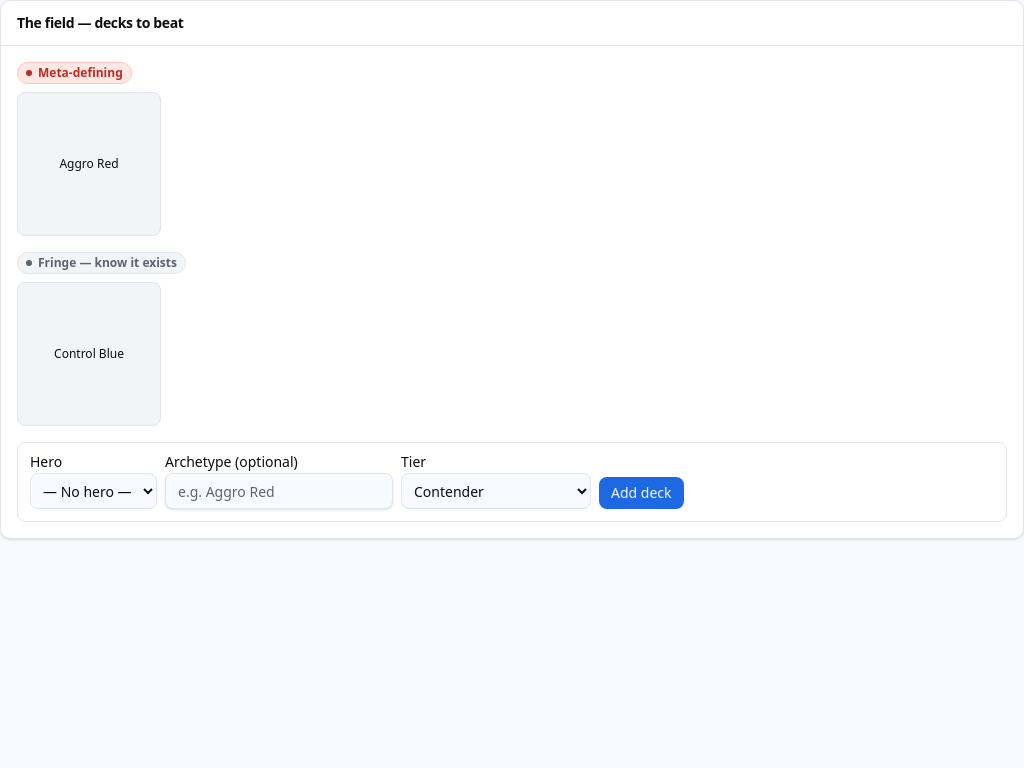
Test: MetaDeckEntryBuilder › requires at least a hero or a label before adding
The width and height of the screenshot is (1024, 768).
Neither a hero nor a label → validation blocks the add.
Click the button "Add deck": (641, 493) [599,477,684,509]
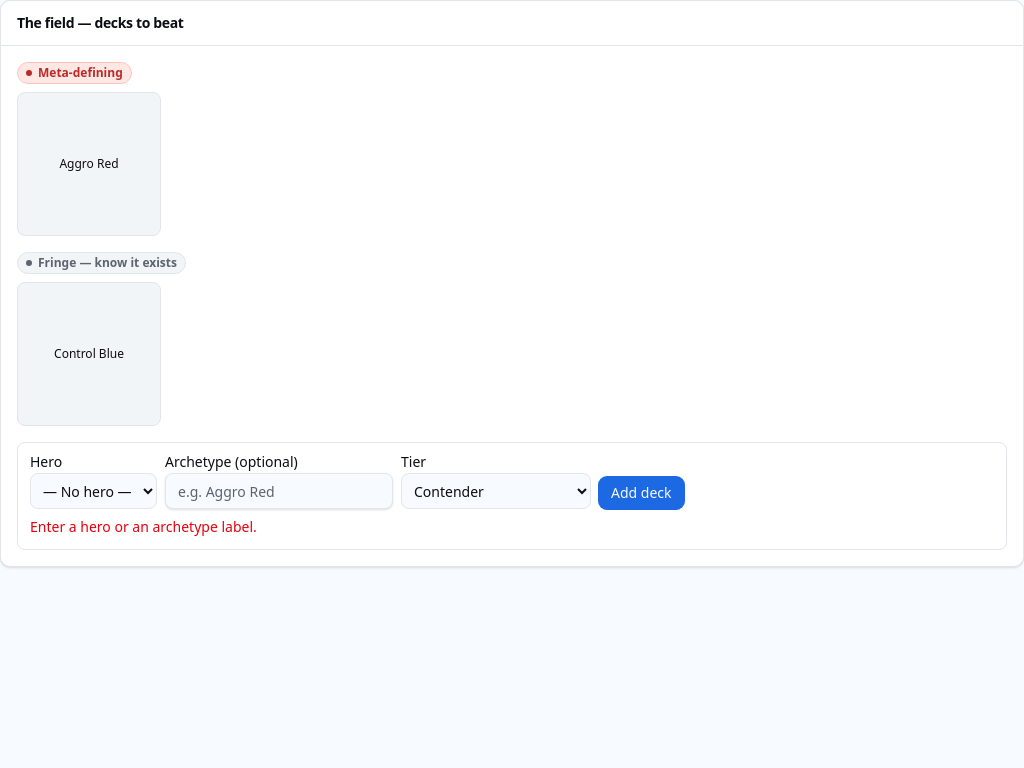
Check: the message shows "hero or an archetype label", box [30,517,257,536]
